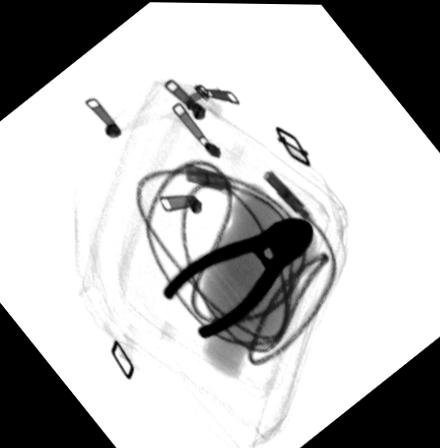Pliers: (161, 215, 315, 338)
